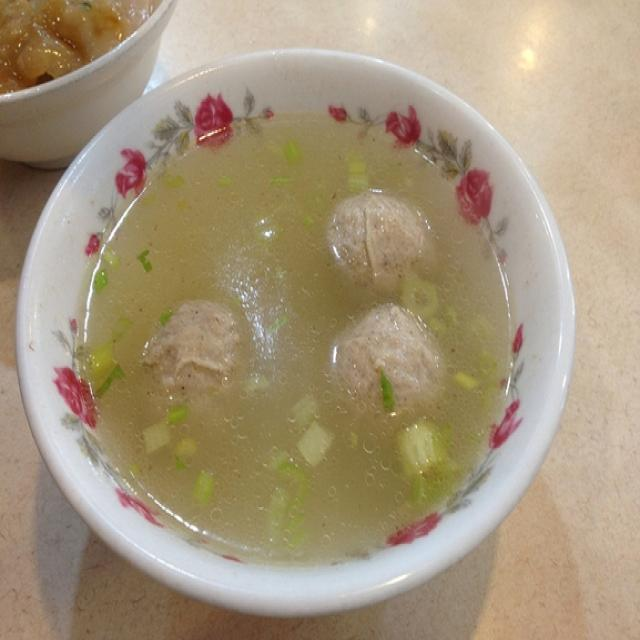熟制海鲜: (30, 42, 573, 610)
